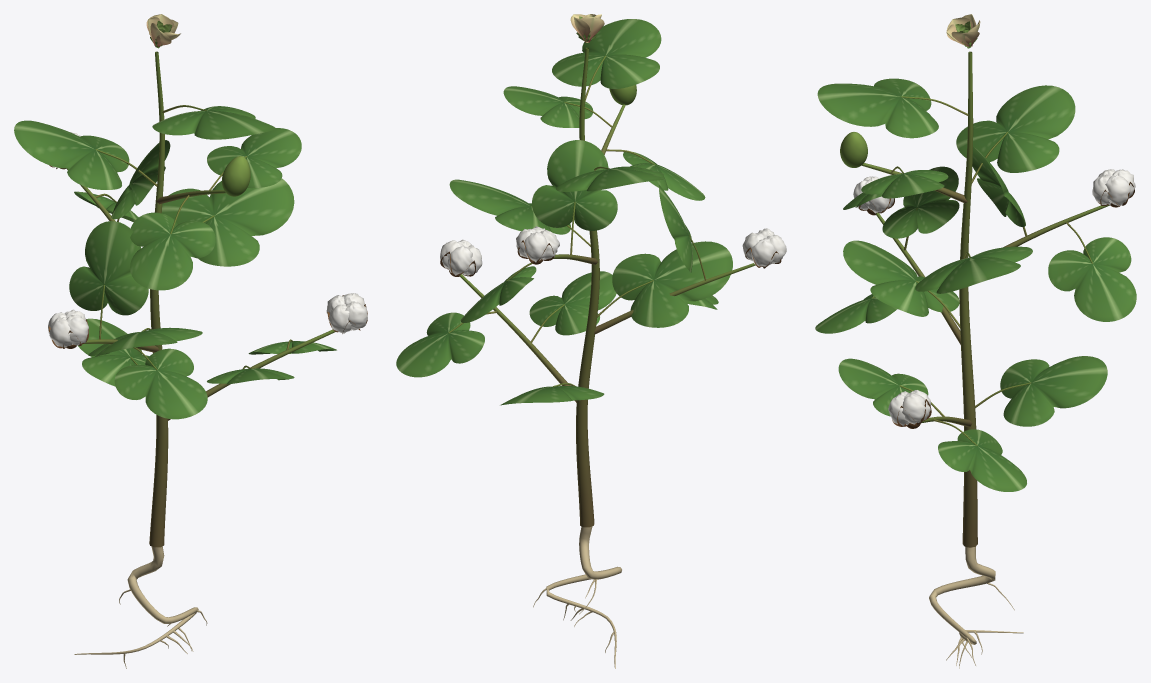
File: 50_Gulxayridoshlar.glb
3 views of the same model, side by side, from view 1: azimuth 30°, elevation 25°; view 2: azimuth 150°, elevation 25°; view 3: azimuth 270°, elevation 25° (orthographic). The views are drawn at different scales.
Parts seen in each view (by area): view 1: leaf, stem, fluff, root, fruit, petal; view 2: leaf, stem, fluff, root, petal; view 3: leaf, stem, fluff, root, fruit, petal, matte.
Part boxes in pixels (bbox=[...]): leaf: bbox=[14, 21, 336, 419]; stem: bbox=[66, 51, 335, 547]; fluff: bbox=[48, 132, 367, 347]; root: bbox=[74, 546, 207, 668]; fruit: bbox=[222, 156, 250, 196]; petal: bbox=[146, 14, 180, 46]; leaf: bbox=[396, 16, 732, 405]; stem: bbox=[448, 47, 755, 527]; fluff: bbox=[440, 226, 786, 275]; root: bbox=[533, 526, 621, 668]; petal: bbox=[570, 14, 604, 42]; leaf: bbox=[815, 21, 1136, 491]; stem: bbox=[862, 51, 1109, 547]; fluff: bbox=[853, 169, 1135, 426]; root: bbox=[929, 546, 1023, 668]; fruit: bbox=[840, 132, 867, 167]; petal: bbox=[946, 14, 980, 46]; matte: bbox=[859, 46, 1134, 428].
Bounding box in the file's own units: 0.6064 × 1.12 × 0.5034.
